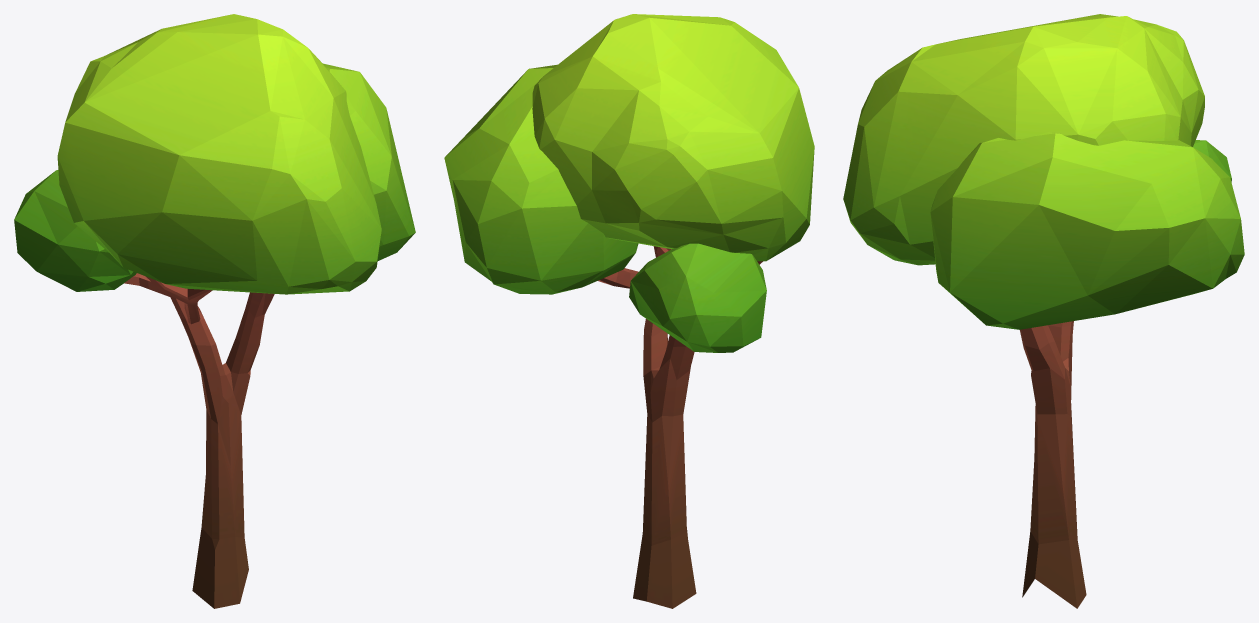
The picture shows the model from 3 angles, left to right: view 1: azimuth 30°, elevation 25°; view 2: azimuth 150°, elevation 25°; view 3: azimuth 270°, elevation 25°; orthographic projection. The views are drawn at different scales.
Visible parts, largest first — view 1: Tree2; view 2: Tree2; view 3: Tree2.
Boxes of the visible parts, box(x1,y1,x2,y2) form: Tree2: box(14, 14, 415, 608); Tree2: box(444, 14, 814, 608); Tree2: box(843, 14, 1244, 608).
Bounding box in the file's own units: 4.7 × 8.07 × 5.01.
1 material, 1 textured.
